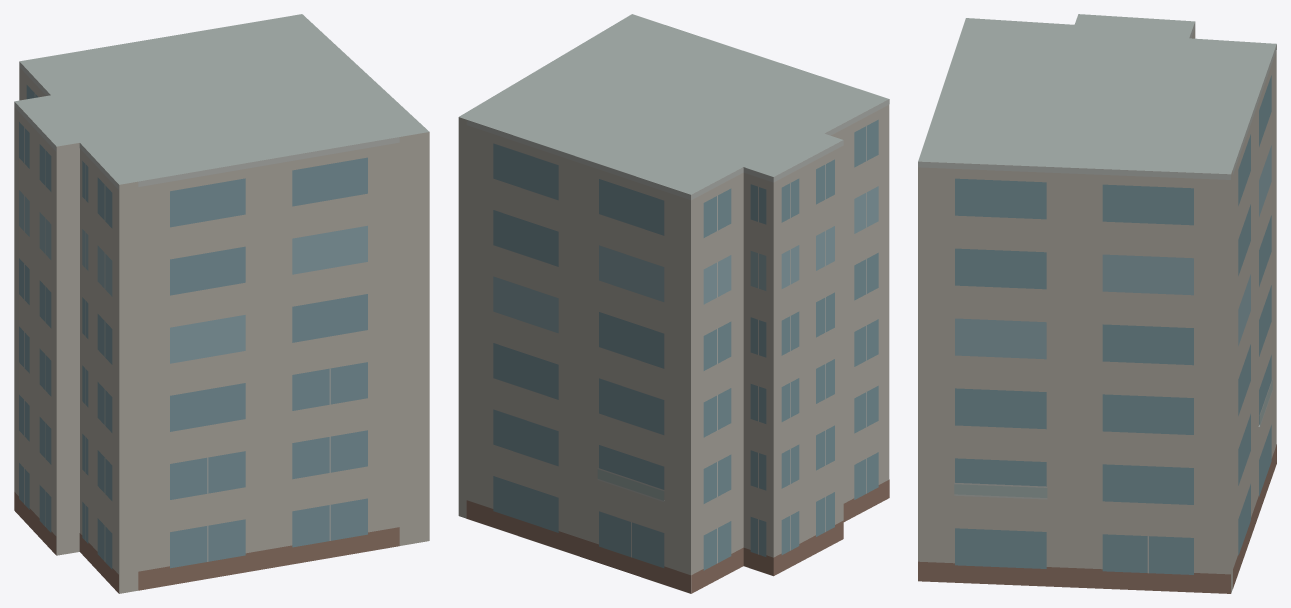
Rendered from survey-upis-32939265.glb.
3 views of the same model, side by side, from view 1: azimuth 30°, elevation 25°; view 2: azimuth 150°, elevation 25°; view 3: azimuth 270°, elevation 25° (orthographic). The views are drawn at different scales.
Visible parts, largest first — view 1: survey-upis-32939265.tmp; view 2: survey-upis-32939265.tmp; view 3: survey-upis-32939265.tmp.
Part boxes in pixels (box(x1,y1,x2,y2)): survey-upis-32939265.tmp: box(14, 14, 429, 593); survey-upis-32939265.tmp: box(458, 14, 889, 593); survey-upis-32939265.tmp: box(918, 14, 1276, 593).
Size of the model in its own units: 14.59 by 17.8 by 13.8.
